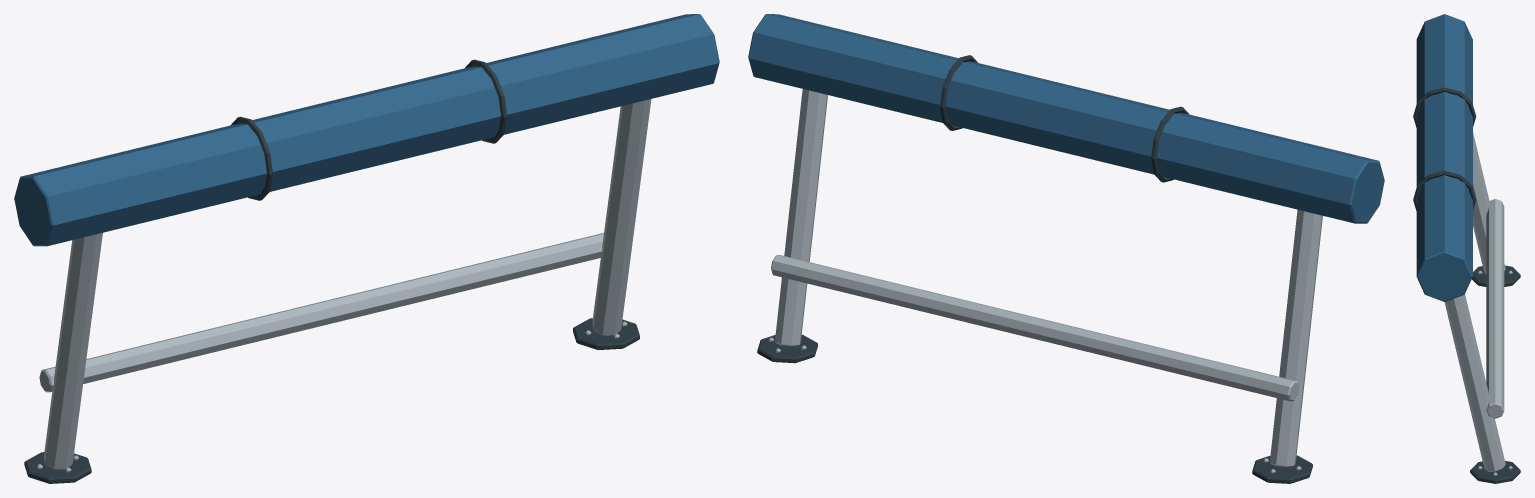
File: b01_transit_leaning_rail.glb
3 views of the same model, side by side, from view 1: azimuth 30°, elevation 25°; view 2: azimuth 150°, elevation 25°; view 3: azimuth 270°, elevation 25° (orthographic). The views are drawn at different scales.
Parts seen in each view (by area): view 1: b01_transit_leaning_rail; view 2: b01_transit_leaning_rail; view 3: b01_transit_leaning_rail.
Part boxes in pixels (left/top/right/bottom): b01_transit_leaning_rail: left=14, top=14, right=719, bottom=483; b01_transit_leaning_rail: left=748, top=14, right=1384, bottom=483; b01_transit_leaning_rail: left=1413, top=14, right=1520, bottom=483.
Bounding box in the file's own units: 2 × 0.9657 × 0.3817.
